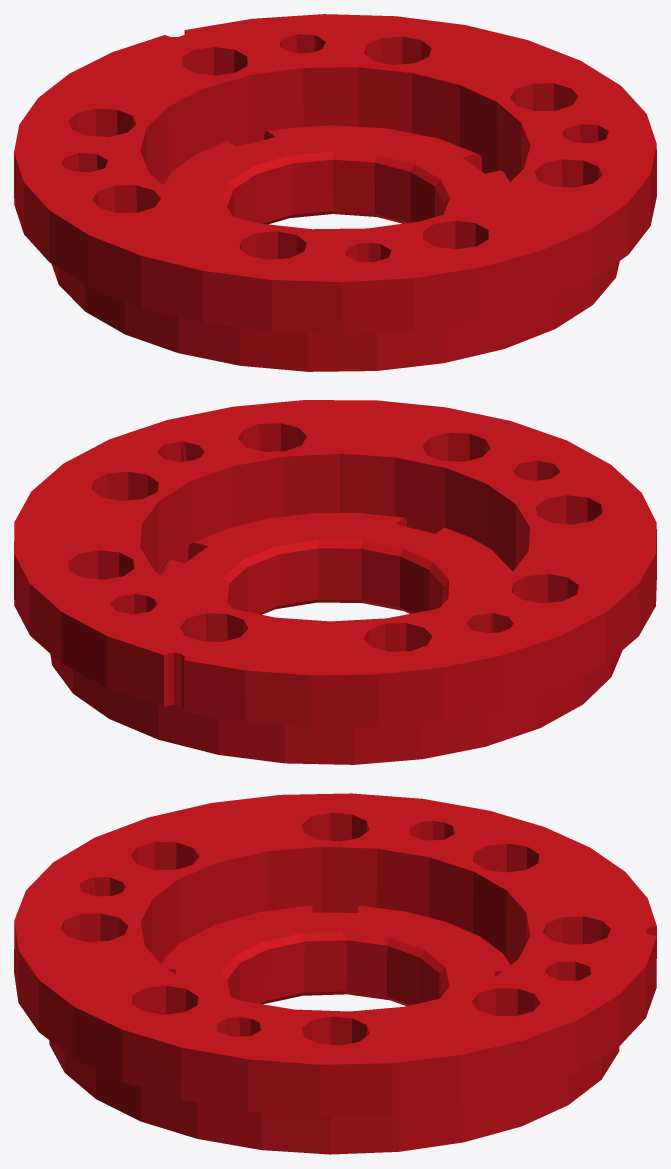
3 renders of one model, top to bottom at view 1: azimuth 30°, elevation 25°; view 2: azimuth 150°, elevation 25°; view 3: azimuth 270°, elevation 25°, orthographic.
Visible parts, largest first — view 1: Link_05; view 2: Link_05; view 3: Link_05.
Part boxes in pixels (x1,y1,x2,y2): Link_05: [14, 14, 656, 371]; Link_05: [14, 400, 656, 764]; Link_05: [14, 793, 656, 1154].
Size of the model in its own units: 55.93 by 55.98 by 11.17.
